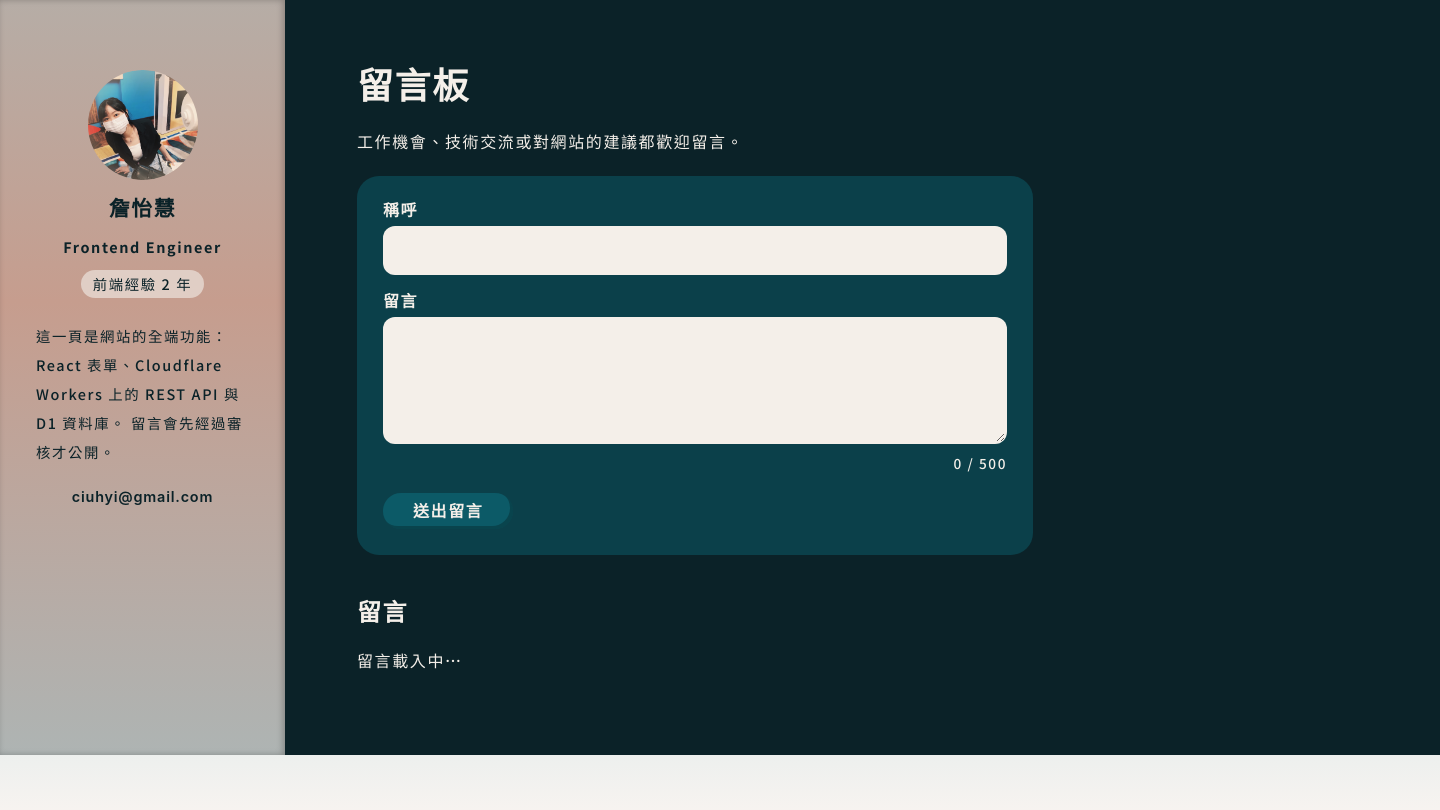
Test: 留言板 › 後端回報限流時顯示訊息並保留已輸入的內容
In the field labelled "稱呼": (695, 250) [383,226,1007,275], type "小明"
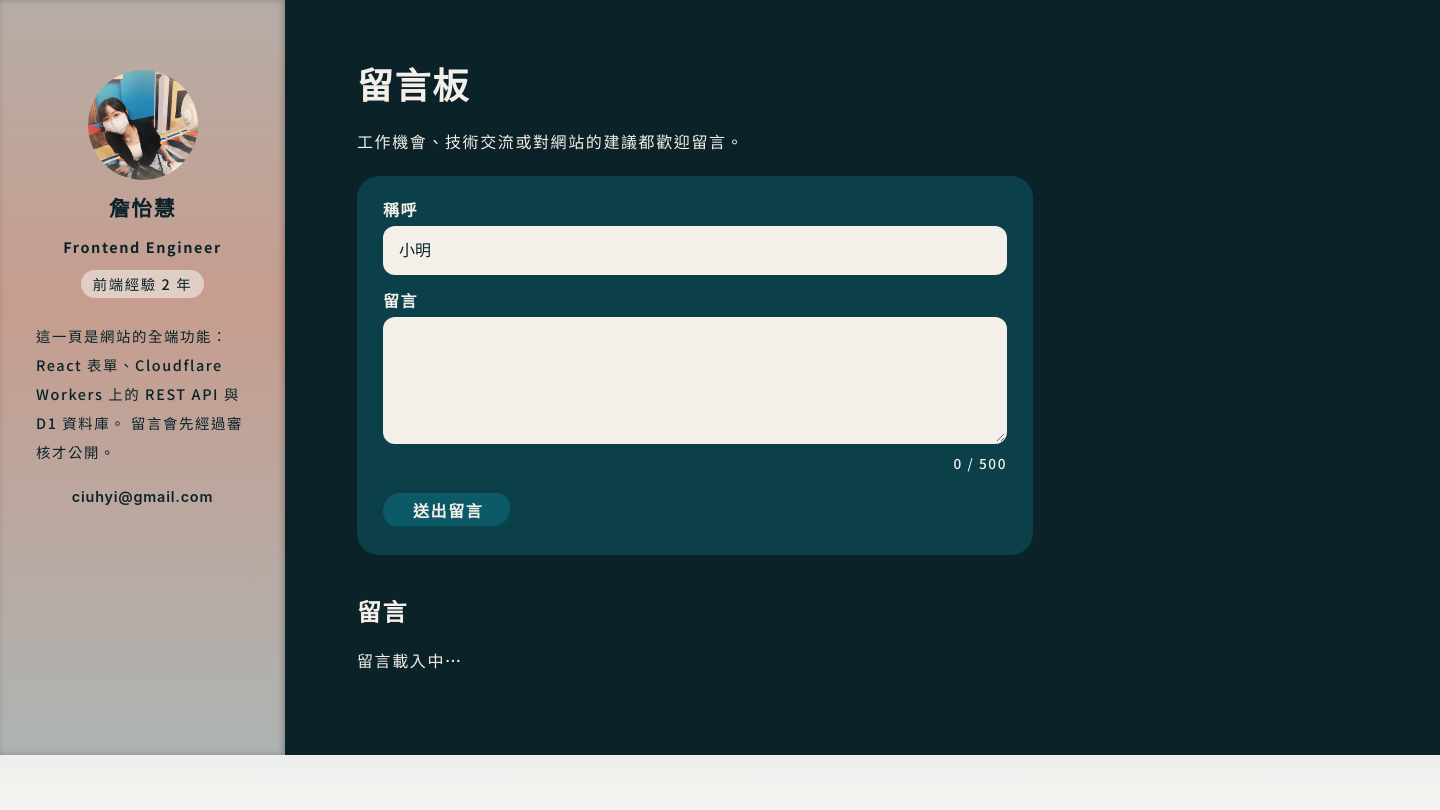
In the text box labelled "留言": (695, 380) [383,317,1007,444], type "你好"
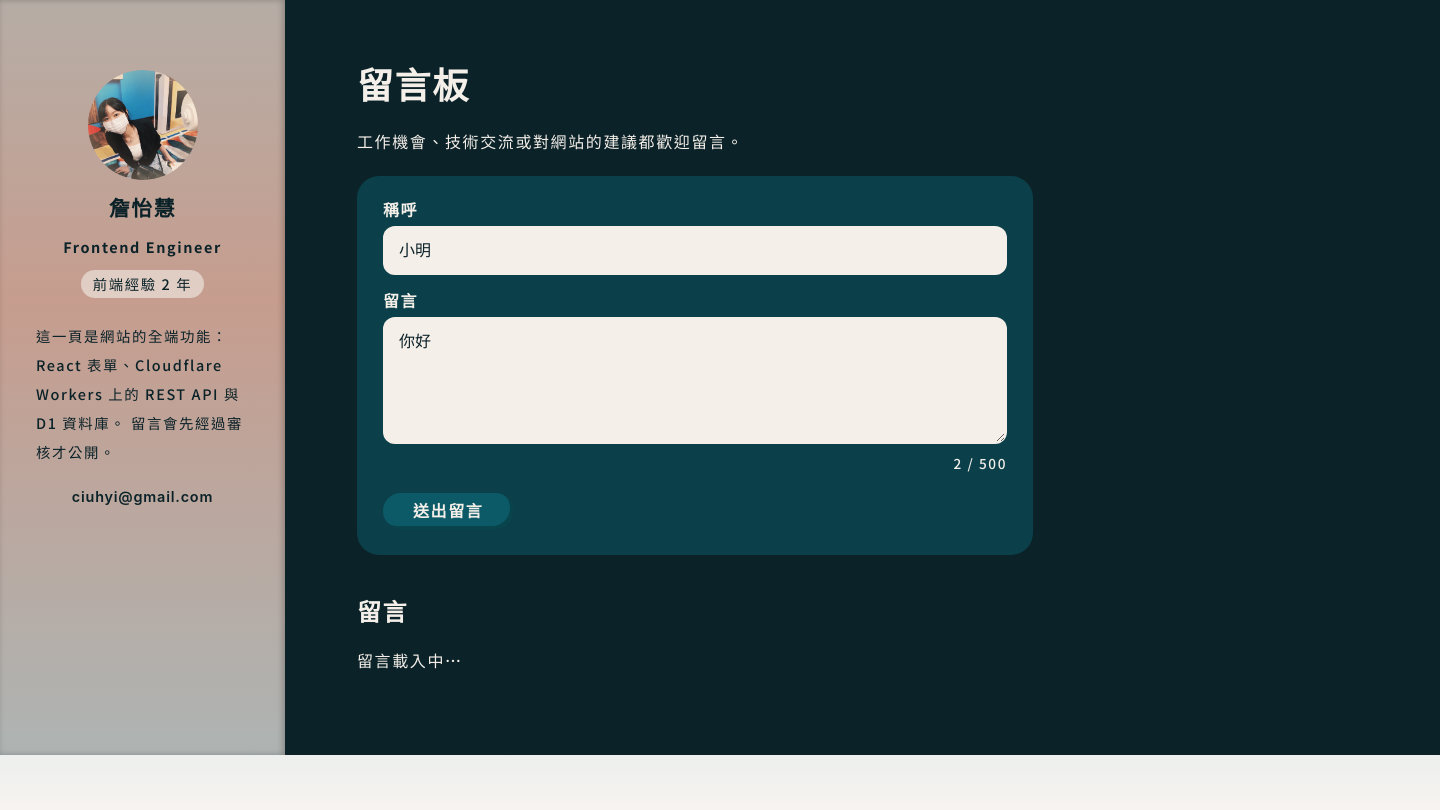
Click the button "送出留言": (448, 511) [383,493,513,529]
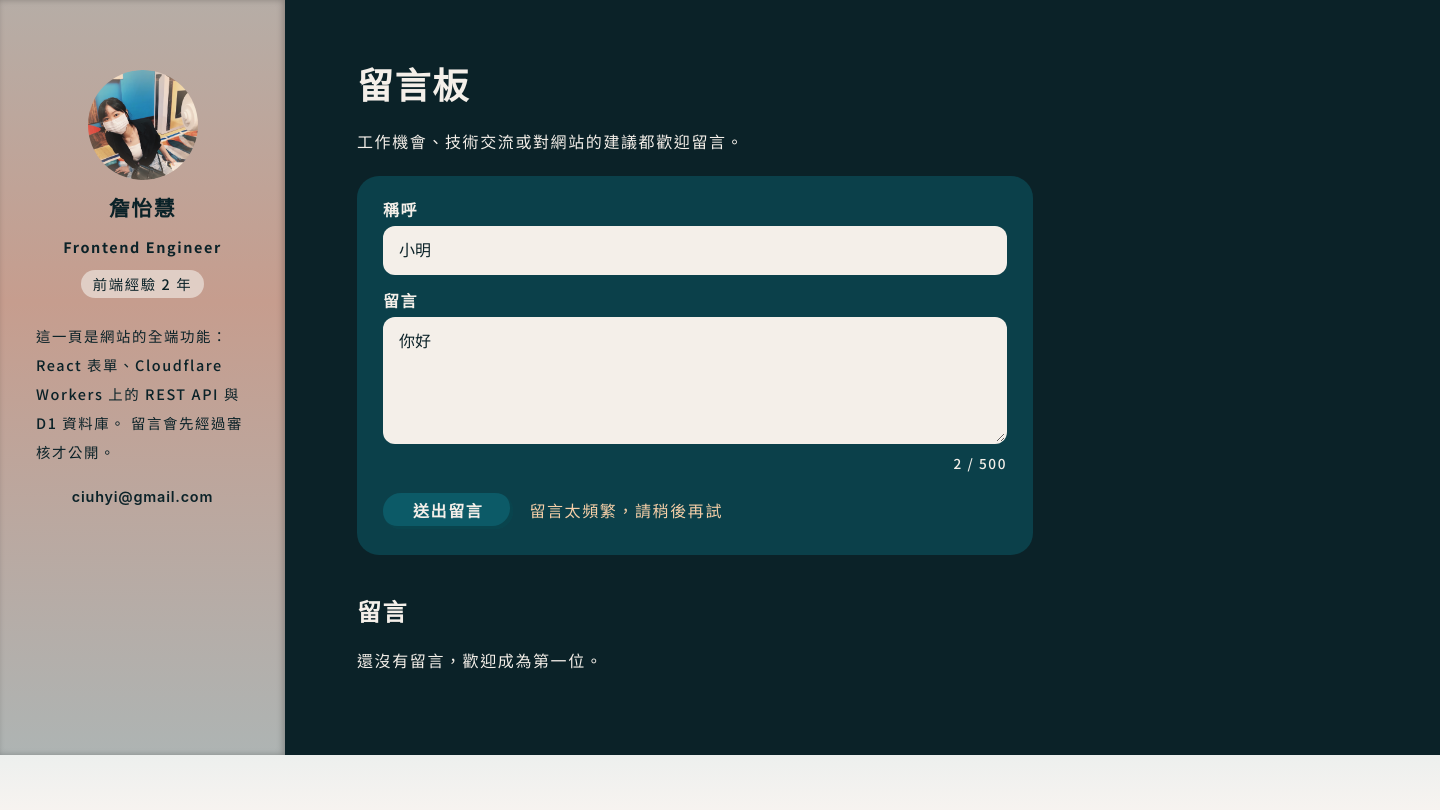
Now the text "留言太頻繁，請稍後再試" is shown, box [529,498,723,522]
